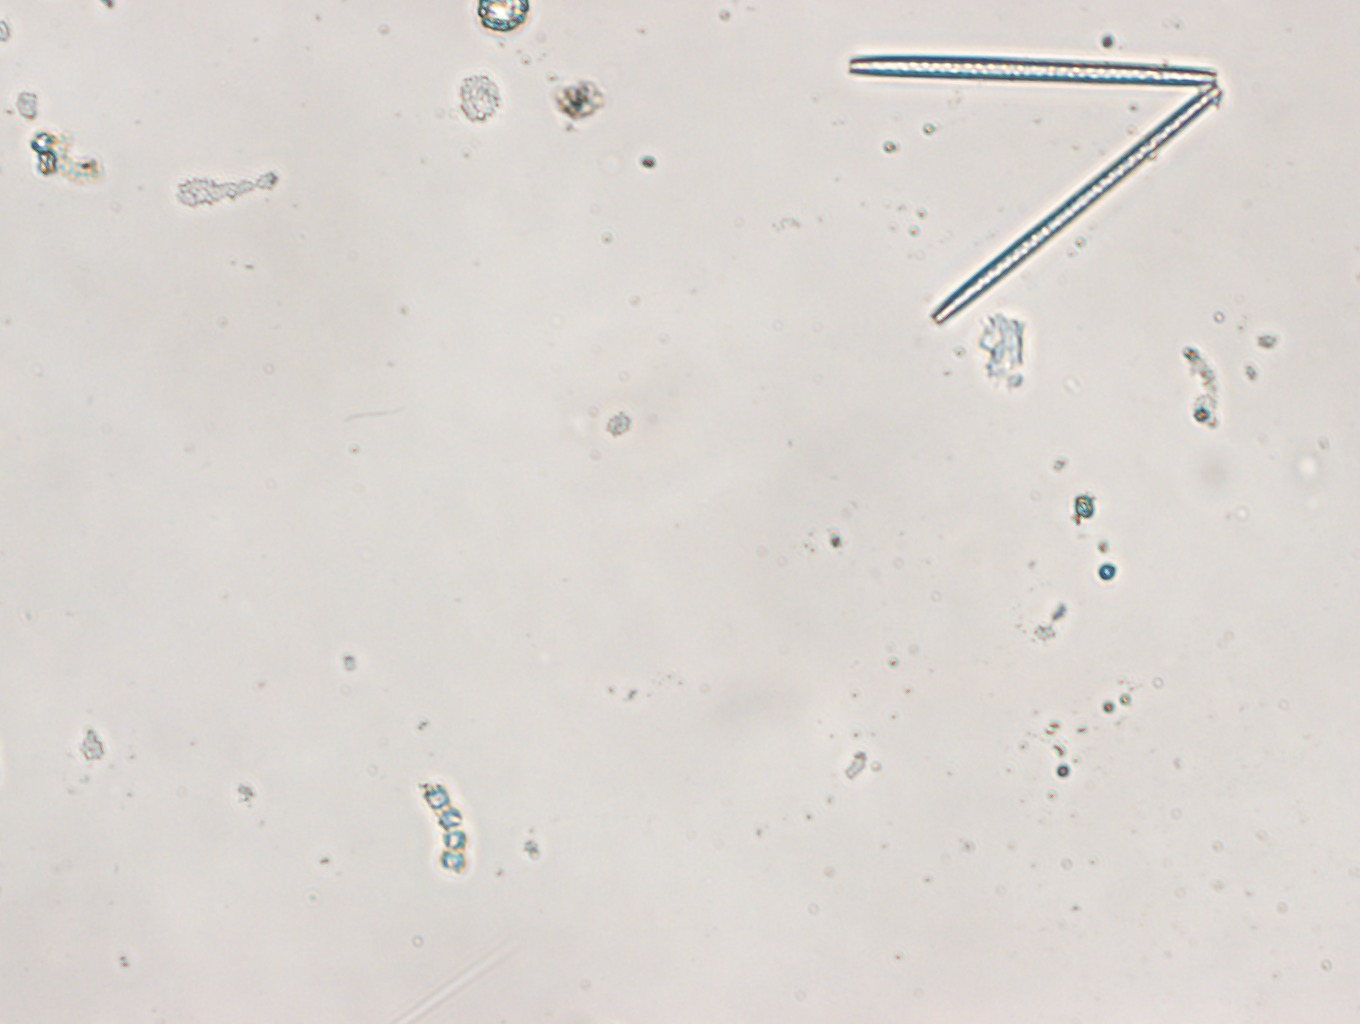thalassionema frauenfeldii: (846, 57, 1223, 328)
